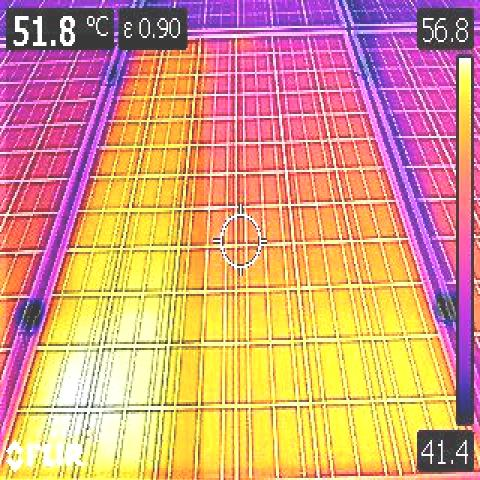fault: (7, 34, 204, 479)
